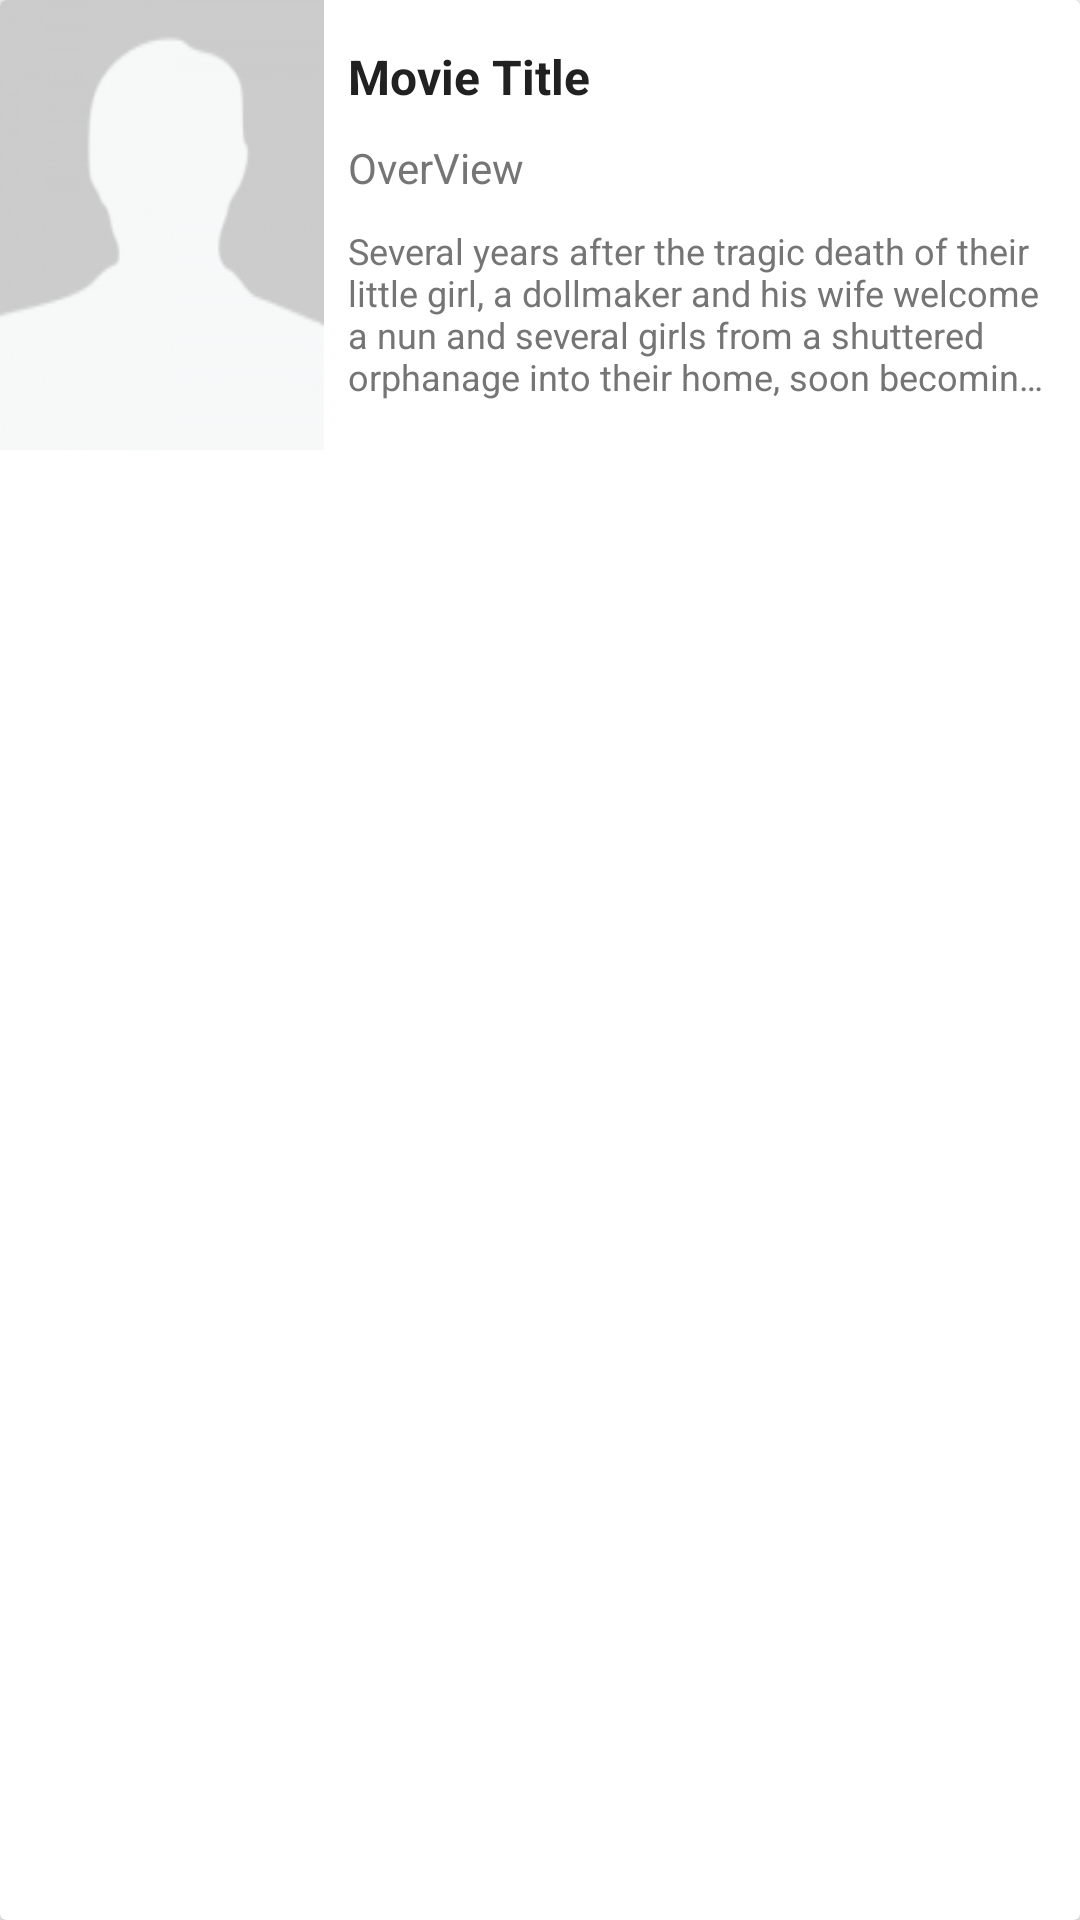

Locate icon controls on the screen. Image size 1080x1920, boxes as {"left": x1, "top": y1, "right": x2, "bottom": y2}.
profileplaceholder: {"left": 0, "top": 0, "right": 324, "bottom": 325}
